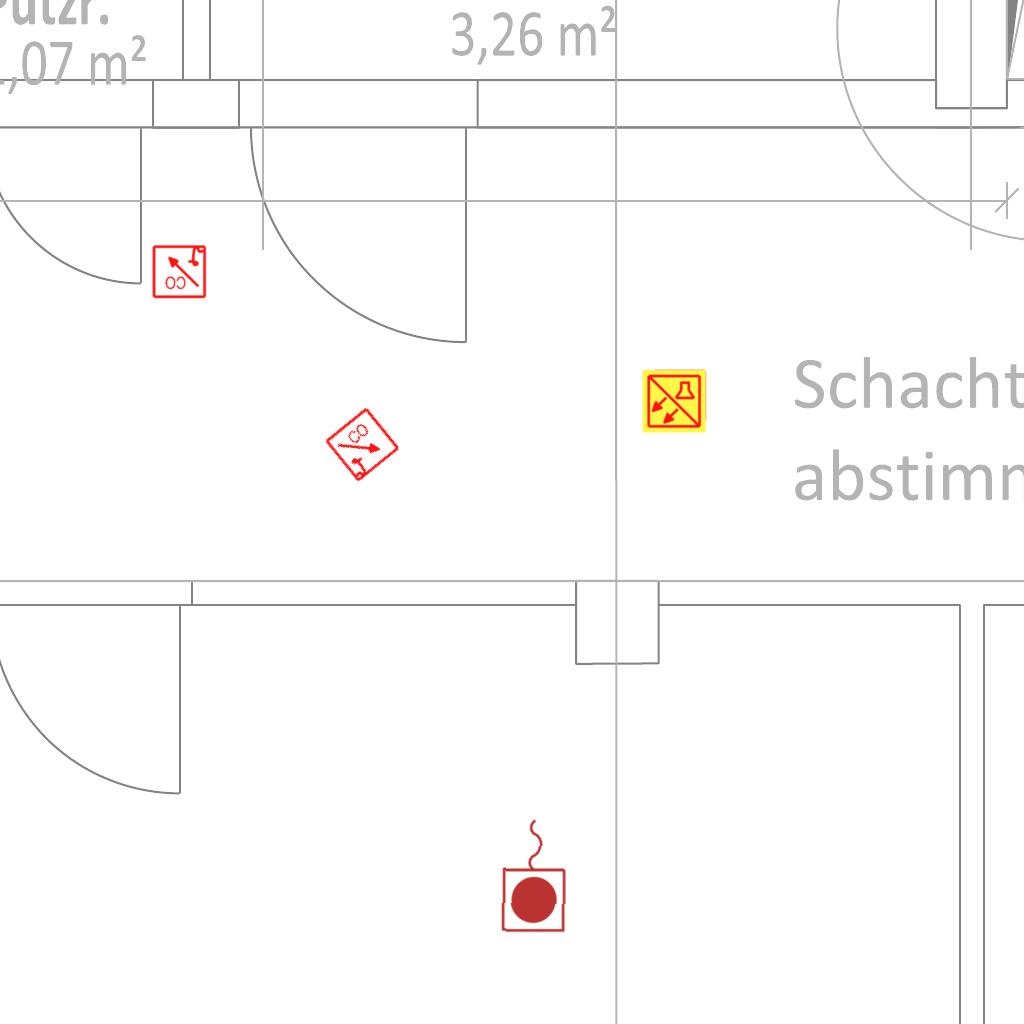OKW_Multisensormelder_(Kombination_optischer_Rauch-Kahlenmonoxid_Waerme-Melder): (641, 368, 707, 434)
ROA_Rauchmelder_optisch_mit_Signalgeber_(Sockelsirene): (323, 405, 403, 485), (151, 243, 207, 299)
Zugtaster: (497, 813, 573, 937)
